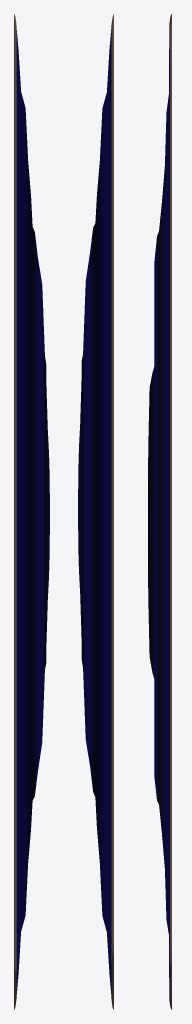
File: blue_flag_222x04.gltf
3 renders of one model, left to right at view 1: azimuth 30°, elevation 25°; view 2: azimuth 210°, elevation 25°; view 3: azimuth 270°, elevation 25°, orthographic.
Visible parts, largest first — view 1: blue_flag_222x04; view 2: blue_flag_222x04; view 3: blue_flag_222x04.
Part boxes in pixels (x1,y1,x2,y2): blue_flag_222x04: (14,14,49,1009); blue_flag_222x04: (78,14,113,1009); blue_flag_222x04: (148,14,171,1009).
Bounding box in the file's own units: 0.054 × 1.97 × 0.0425.
Materials: 1 (1 with a texture image).
